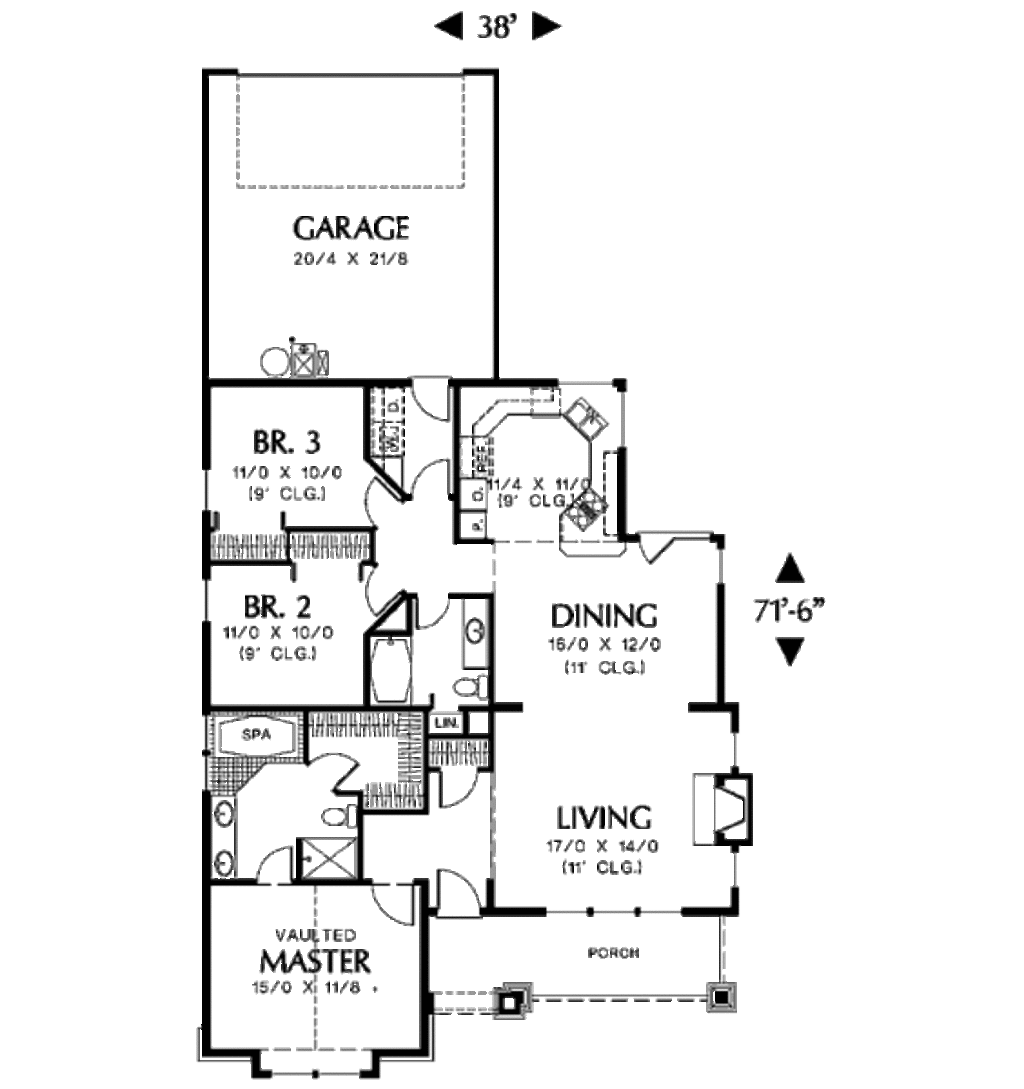door: (406, 370, 462, 431), (367, 880, 421, 939), (433, 867, 487, 921), (248, 841, 299, 892), (409, 456, 459, 506), (362, 480, 408, 533), (355, 561, 399, 616), (308, 743, 355, 789), (430, 763, 479, 807), (638, 526, 672, 570), (415, 589, 450, 631)
large_sink: (316, 795, 370, 841), (453, 673, 496, 709)
small_sink: (204, 794, 243, 882), (462, 602, 487, 660)
tub: (211, 706, 292, 758), (369, 633, 416, 706)
twin_sink: (552, 385, 620, 448)
